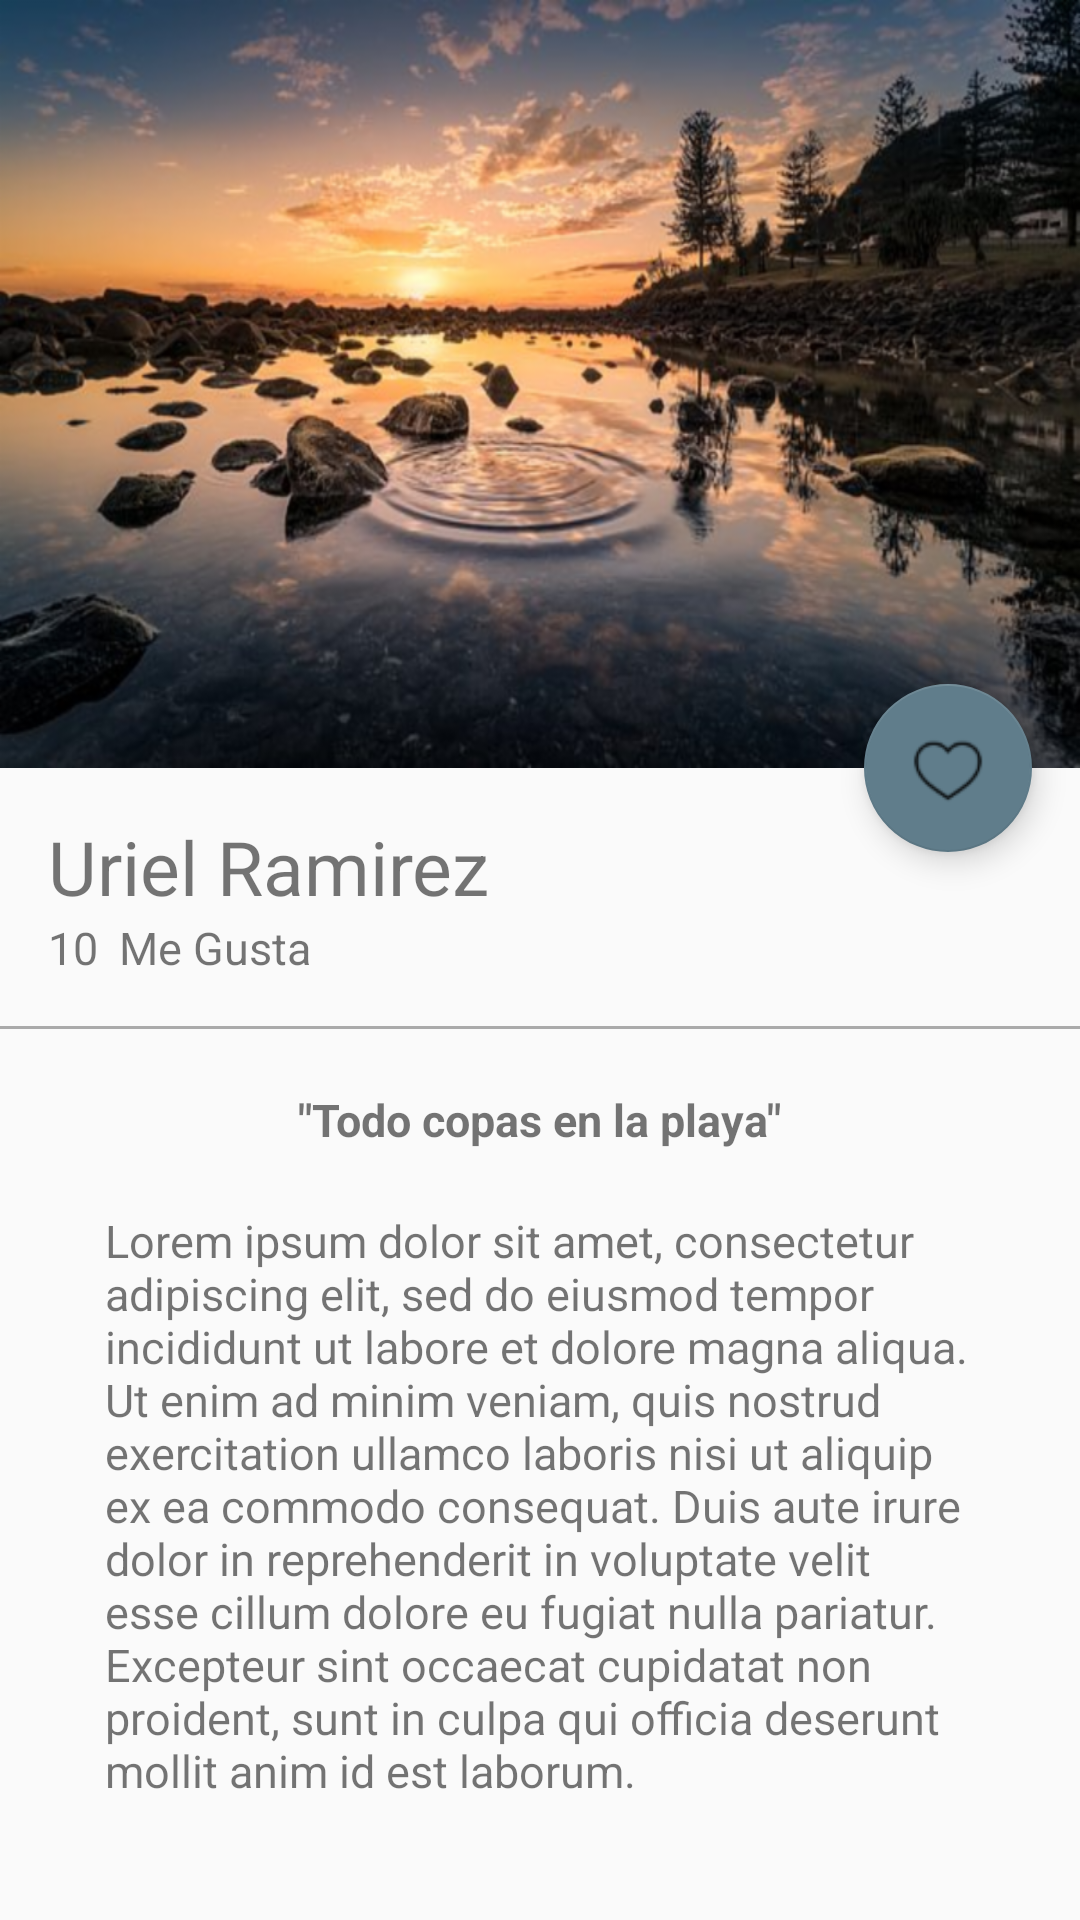

Where to tap for icons on this 1080*1920 app screen, as point (x, y):
heartempty: point (948, 768)
